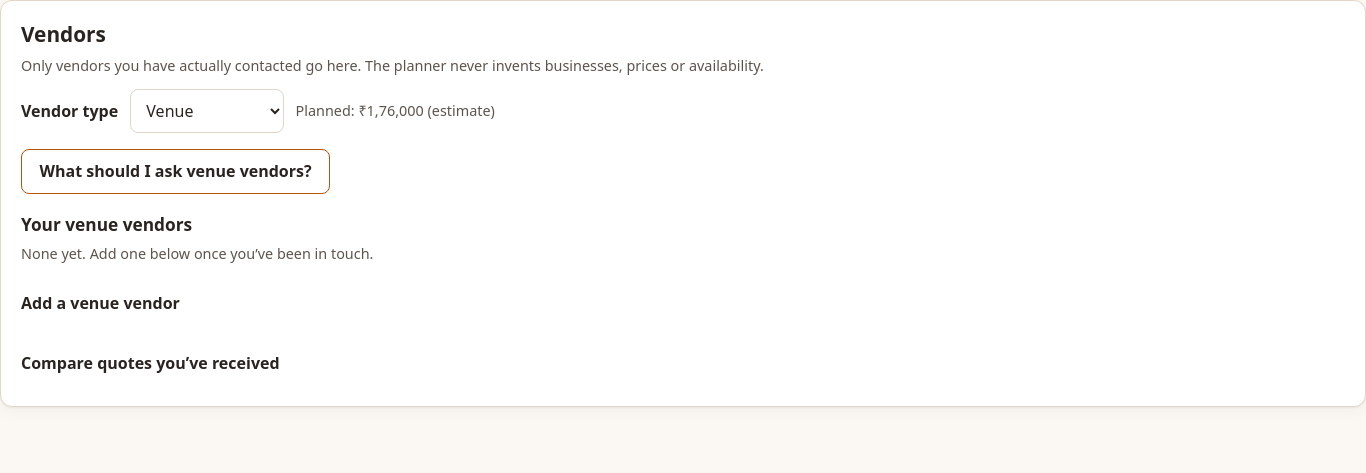
VendorPanel › what to ask vendors › reports a failure
Click the button "What should I ask venue vendors?" at (176, 172), box [21,149,330,194]
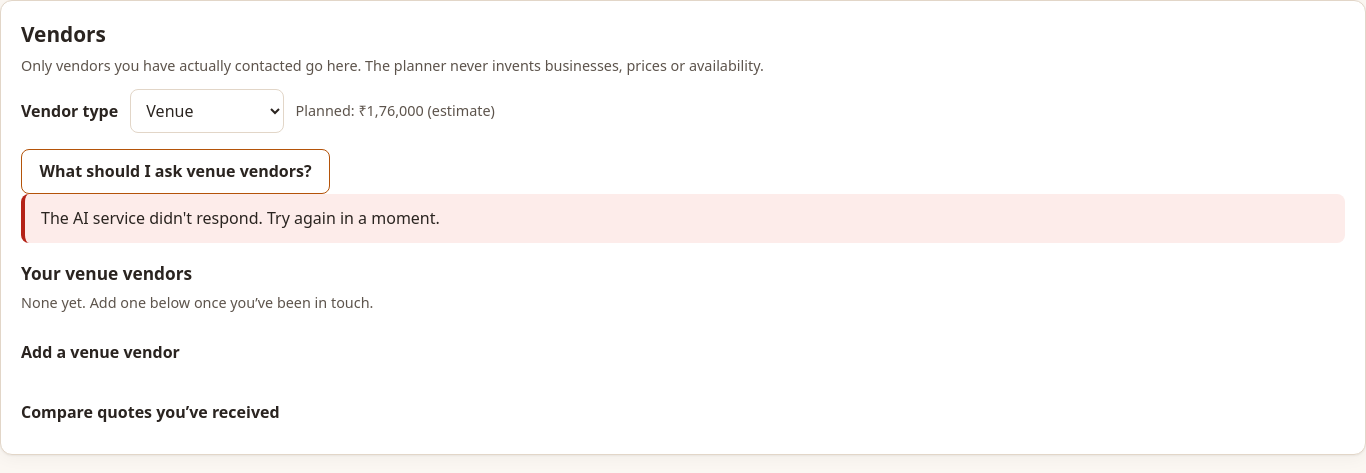
expect the message shows "The AI service didn't respond.": met, box [41,207,440,229]
